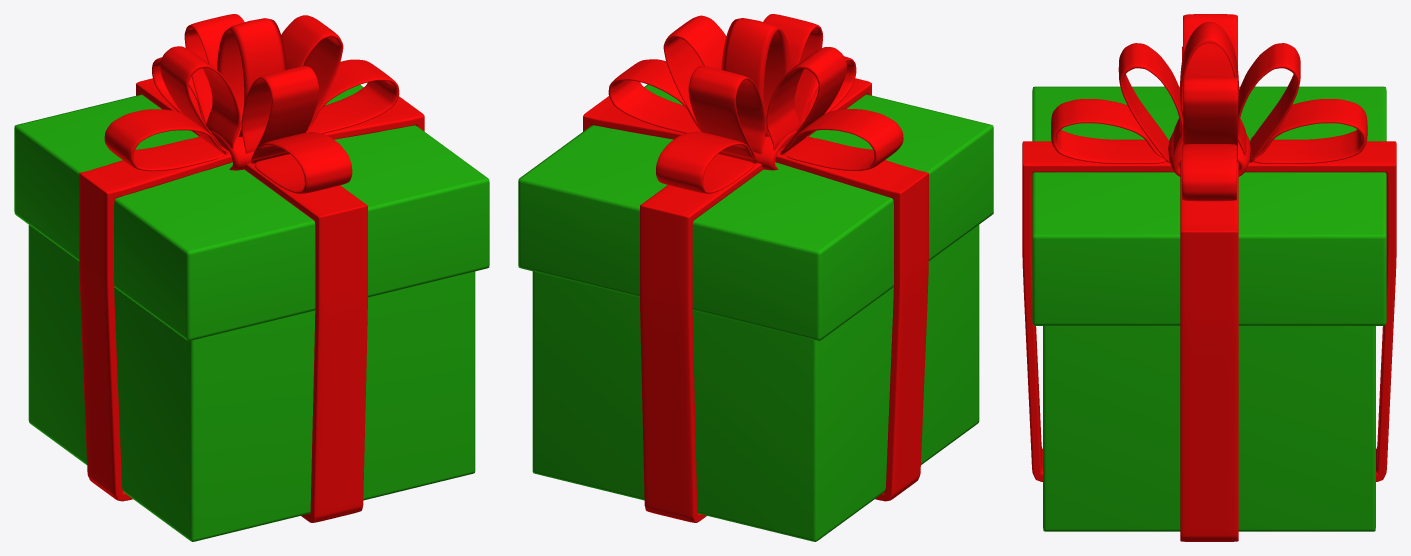
The model's file is Gift4.glb.
The picture shows the model from 3 angles, left to right: view 1: azimuth 30°, elevation 25°; view 2: azimuth 150°, elevation 25°; view 3: azimuth 270°, elevation 25°; orthographic projection.
Visible parts, largest first — view 1: Cube, Cube.001, Cube.003, Cube.004, Cube.013, Cube.008, Cube.006, Cube.007, Cube.012, Cylinder, Cube.011, Cube.010 (+4 smaller); view 2: Cube, Cube.001, Cube.002, Cube.004, Cube.010, Cube.008, Cube.009, Cube.012, Cylinder, Cube.007, Cube.011, Cube.013 (+4 smaller); view 3: Cube, Cube.001, Cube.005, Cube.002, Cube.003, Cube.009, Cube.006, Cube.011, Cube.013, Cube.010, Cube.007, Cube.012 (+2 smaller).
Part boxes in pixels (x1,y1,x2,y2): Cube: [28, 225, 475, 541]; Cube.001: [14, 64, 489, 340]; Cube.003: [244, 163, 367, 522]; Cube.004: [79, 136, 232, 501]; Cube.013: [241, 66, 318, 163]; Cube.008: [104, 109, 227, 171]; Cube.006: [251, 132, 352, 193]; Cube.007: [306, 59, 399, 133]; Cube.012: [160, 46, 240, 154]; Cylinder: [217, 18, 286, 136]; Cube.011: [281, 15, 343, 123]; Cube.010: [184, 14, 244, 124]; Cube: [532, 225, 979, 541]; Cube.001: [518, 63, 993, 340]; Cube.002: [640, 163, 763, 522]; Cube.004: [775, 136, 928, 501]; Cube.010: [688, 66, 765, 163]; Cube.008: [780, 109, 903, 170]; Cube.009: [656, 131, 757, 193]; Cube.012: [766, 47, 846, 154]; Cylinder: [721, 18, 790, 136]; Cube.007: [608, 59, 701, 133]; Cube.011: [663, 15, 726, 130]; Cube.013: [763, 14, 823, 125]; Cube: [1043, 326, 1375, 531]; Cube.001: [1032, 86, 1386, 325]; Cube.005: [1180, 161, 1238, 541]; Cube.002: [1245, 141, 1396, 481]; Cube.003: [1022, 141, 1173, 481]; Cube.009: [1250, 99, 1367, 163]; Cube.006: [1051, 99, 1165, 163]; Cube.011: [1183, 77, 1237, 160]; Cube.013: [1118, 43, 1182, 162]; Cube.010: [1238, 43, 1300, 162]; Cube.007: [1182, 144, 1236, 201]; Cube.012: [1183, 14, 1237, 77].
Bounding box in the file's own units: 2.52 × 3.28 × 2.52.
